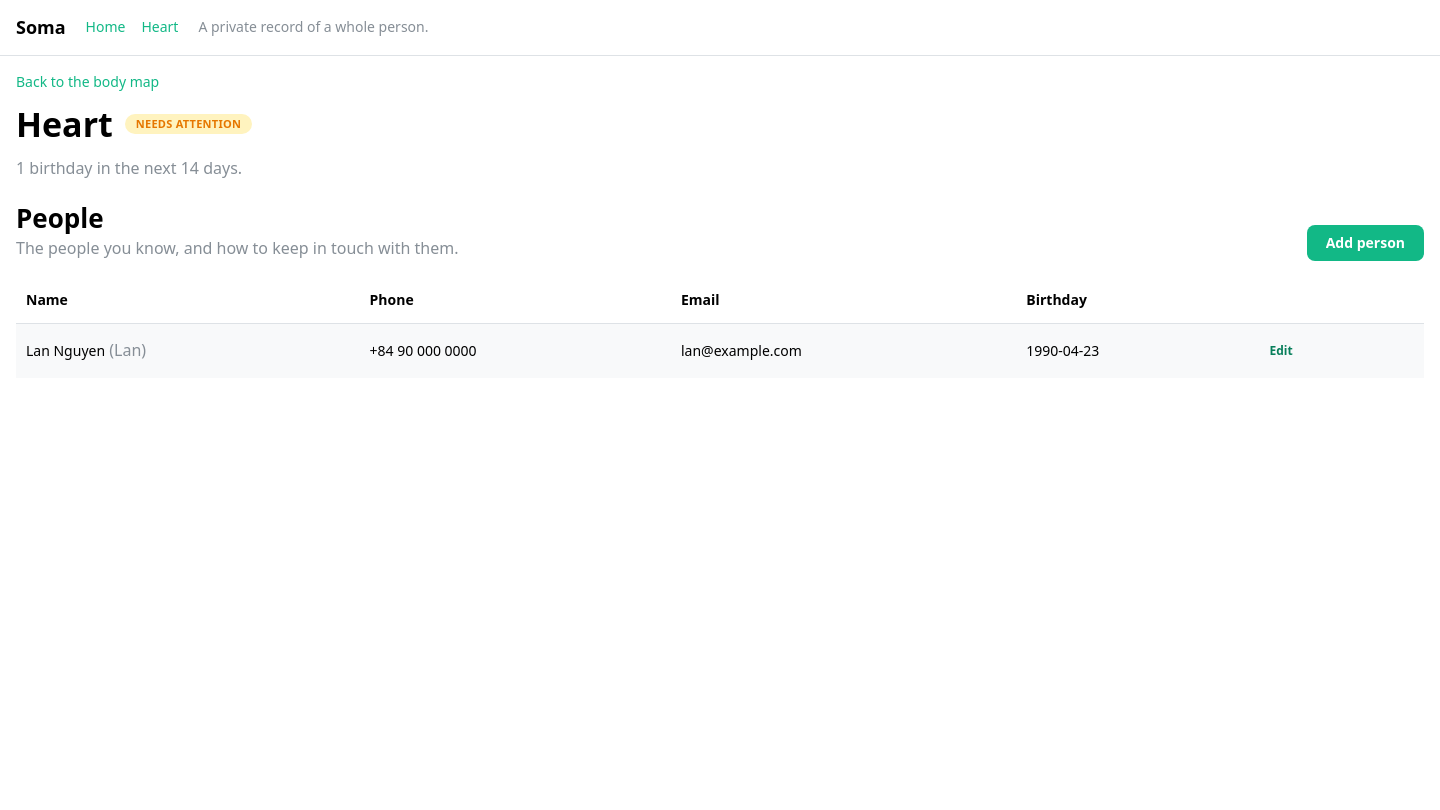
Scenario: People page › rejects a birthday that isn't a calendar date
The image size is (1440, 810).
Expected: the text "Lan Nguyen" is shown, [26,342,105,360]
Click the button "Add person" at (1365, 243), box [1307,225,1424,261]
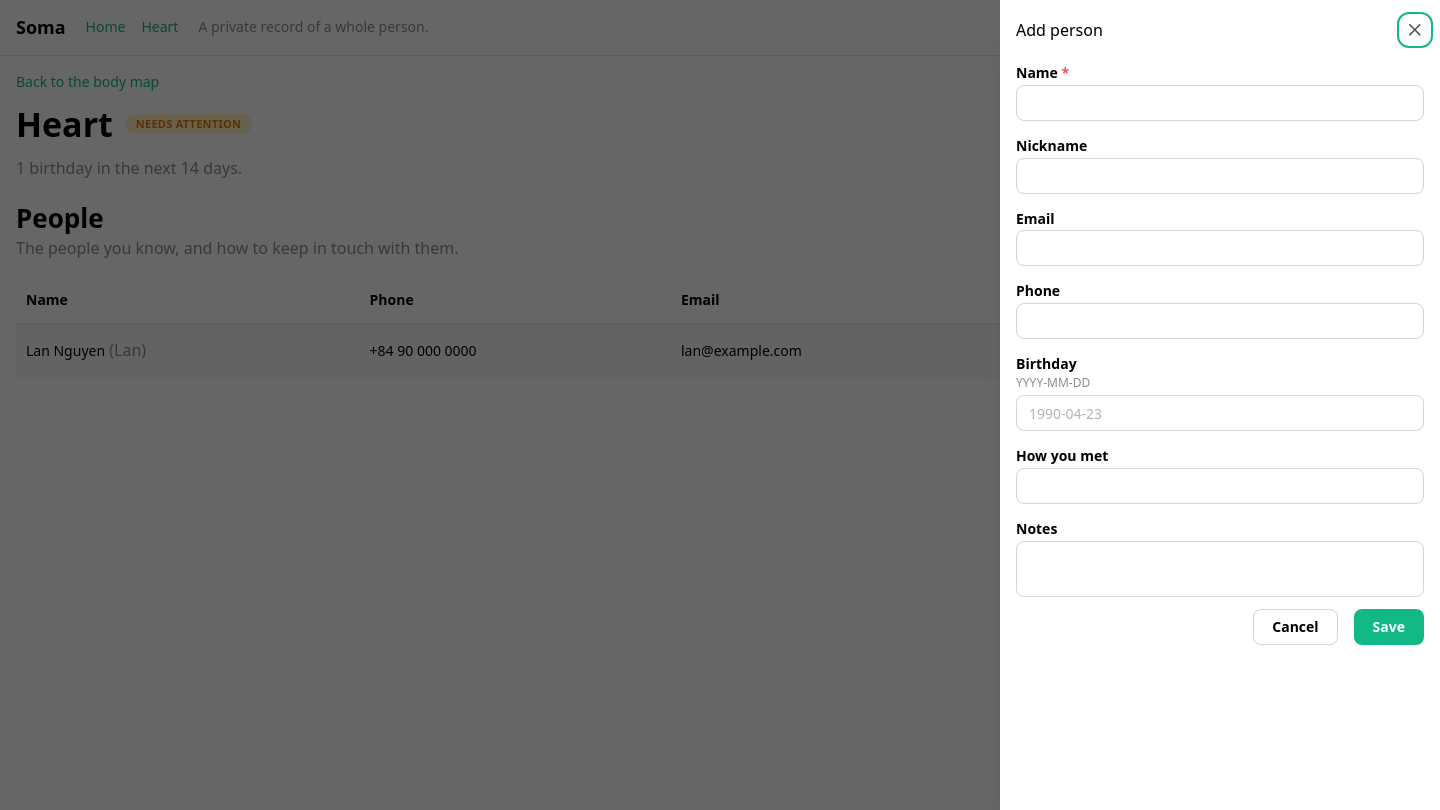
Type "Minh" into the field labelled "Name *" at (1220, 103), box [1016,85,1424,121]
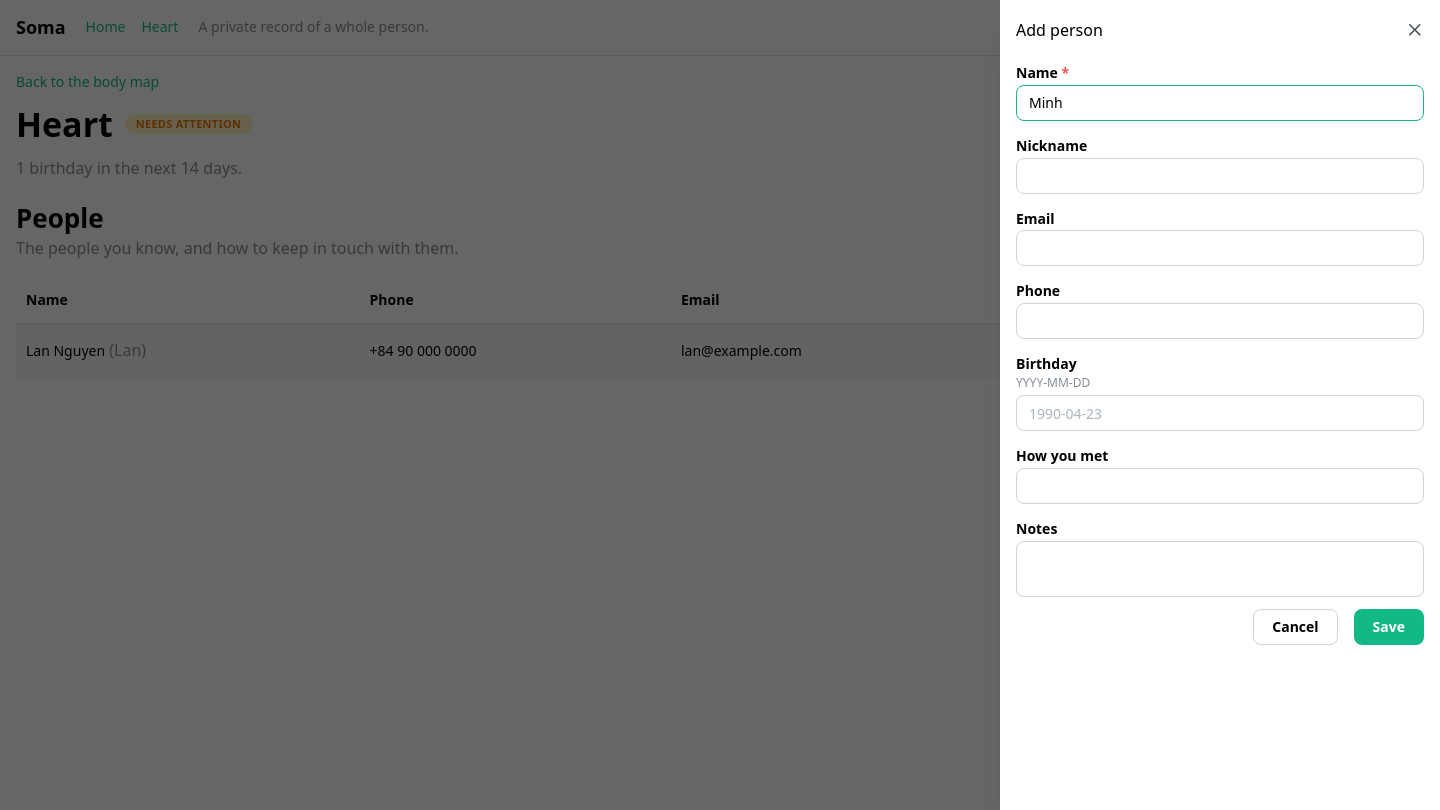
Type "23/04/1990" into the field labelled "Birthday" at (1220, 413), box [1016,395,1424,431]
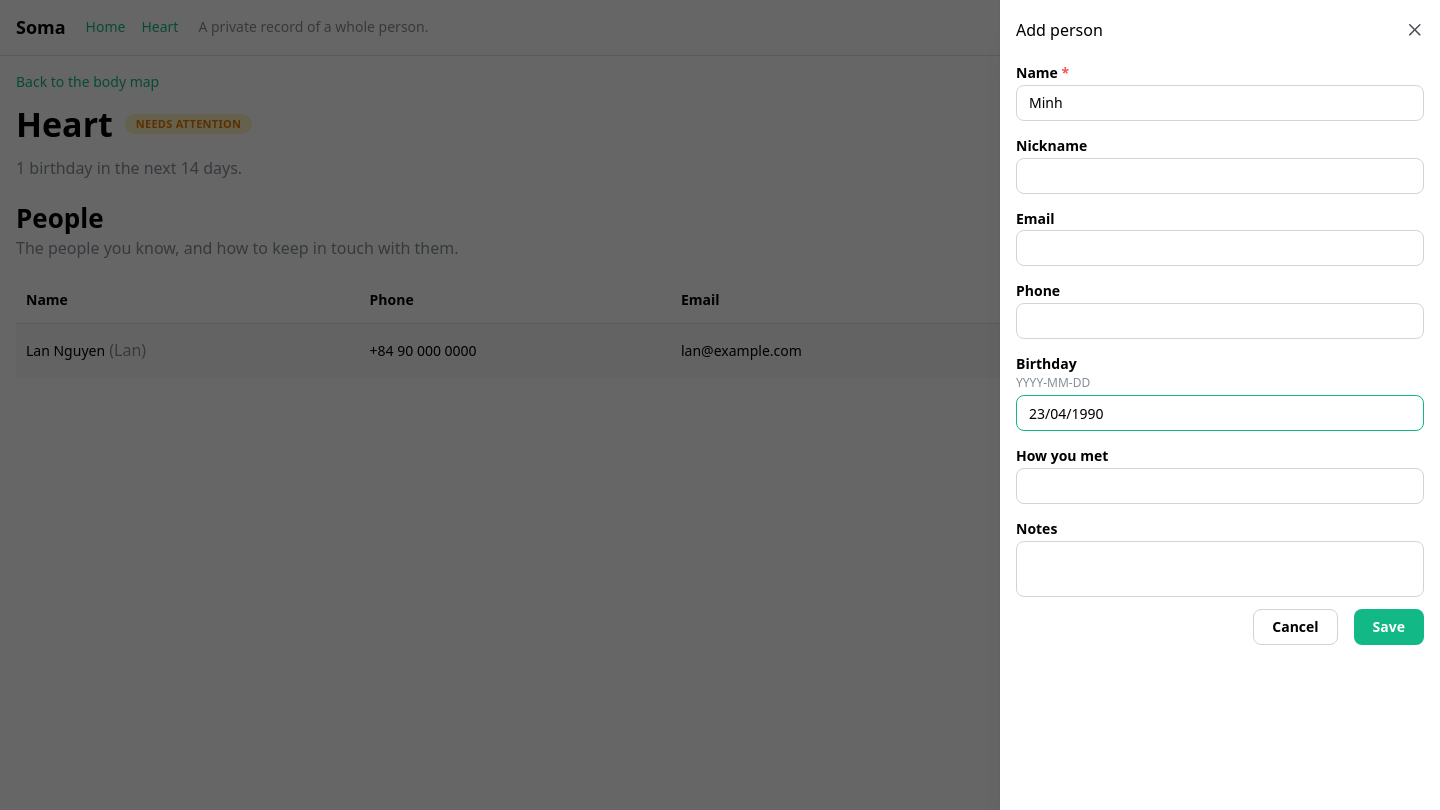
Click the button "Save" at (1389, 627), box [1354,609,1424,645]
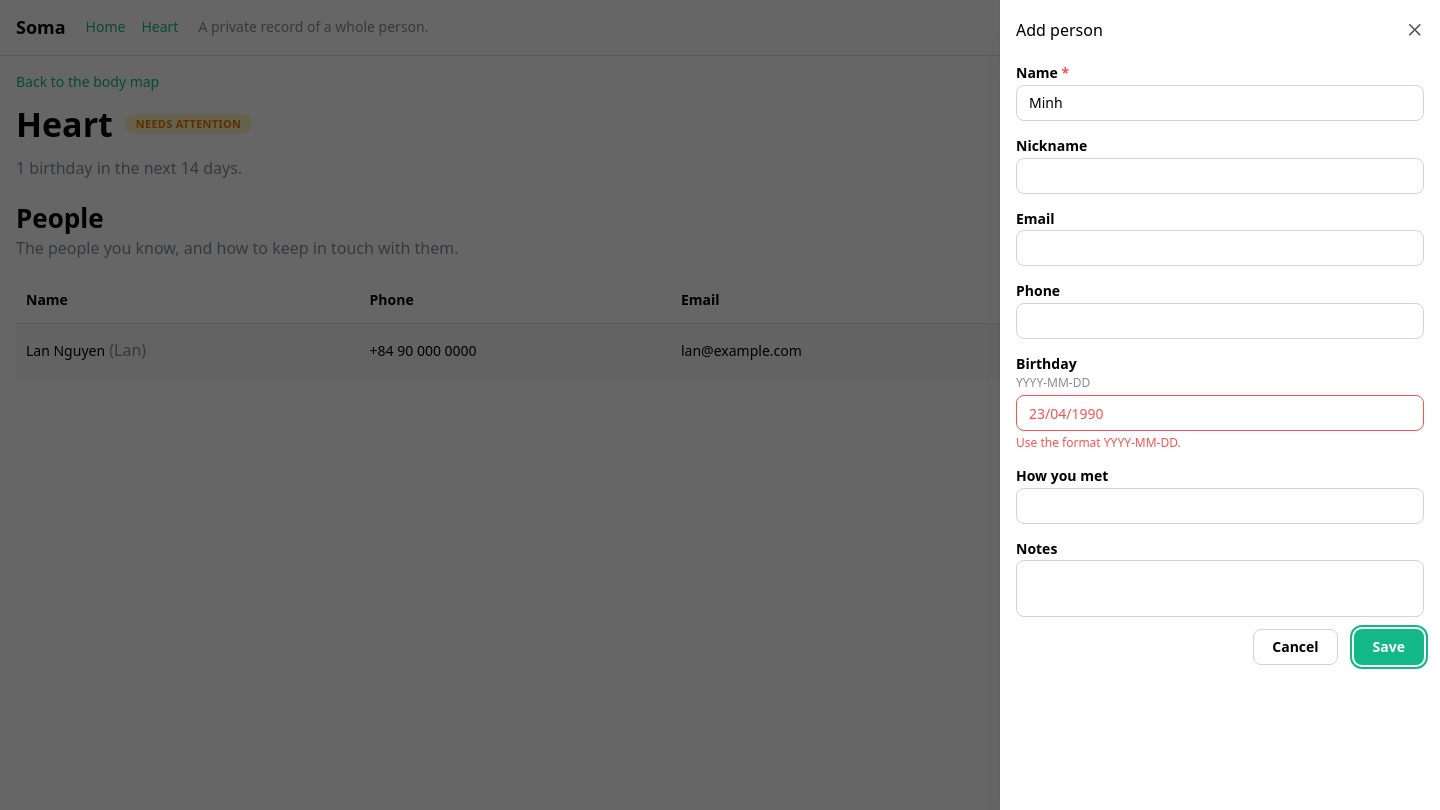
Now the text "Use the format YYYY-MM-DD." is shown, box [1016,434,1181,451]
